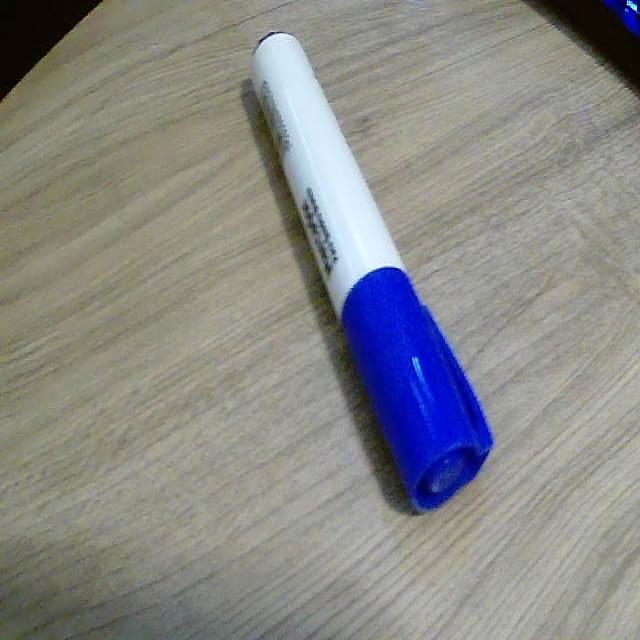caneta: (235, 29, 503, 532)
